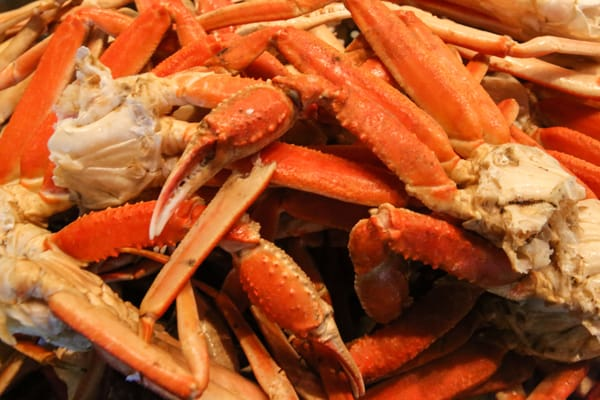burger: (237, 234, 367, 398)
pizza: (136, 154, 281, 327), (0, 10, 94, 190)
